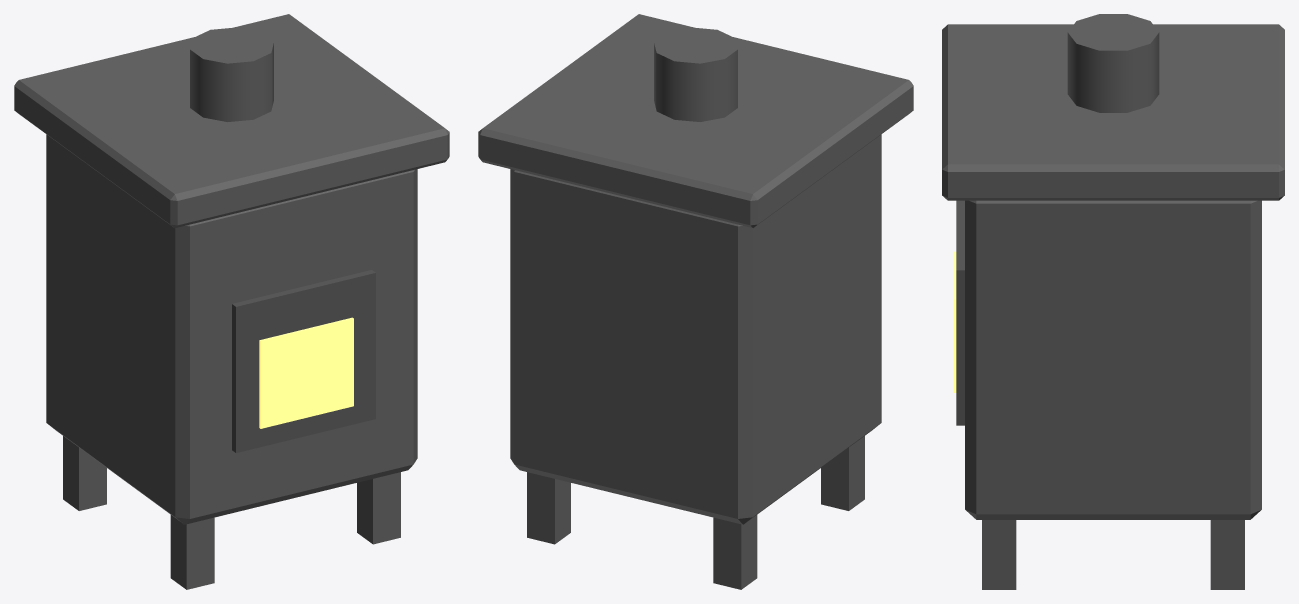
Rendered from stove.glb.
3 renders of one model, left to right at view 1: azimuth 30°, elevation 25°; view 2: azimuth 150°, elevation 25°; view 3: azimuth 270°, elevation 25°, orthographic. The views are drawn at different scales.
Parts seen in each view (by area): view 1: stove, fire; view 2: stove; view 3: stove, fire.
Part boxes in pixels (x1,y1,x2,y2): stove: [14, 14, 449, 589]; fire: [259, 317, 353, 428]; stove: [478, 14, 913, 589]; stove: [942, 14, 1284, 589]; fire: [953, 251, 956, 392].
Size of the model in its own units: 0.6 by 0.97 by 0.6.
